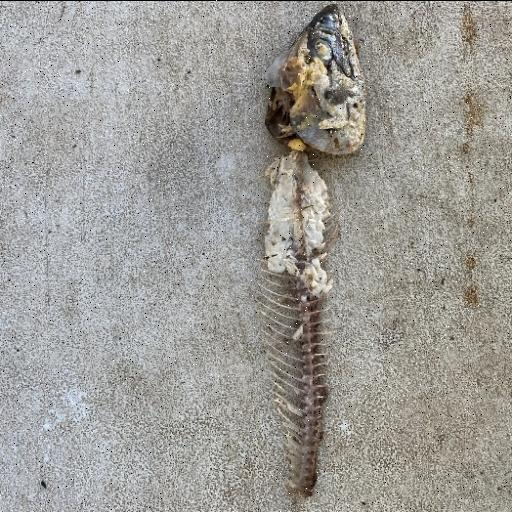Waste: (252, 3, 368, 499), (254, 150, 335, 498), (262, 4, 368, 156)
